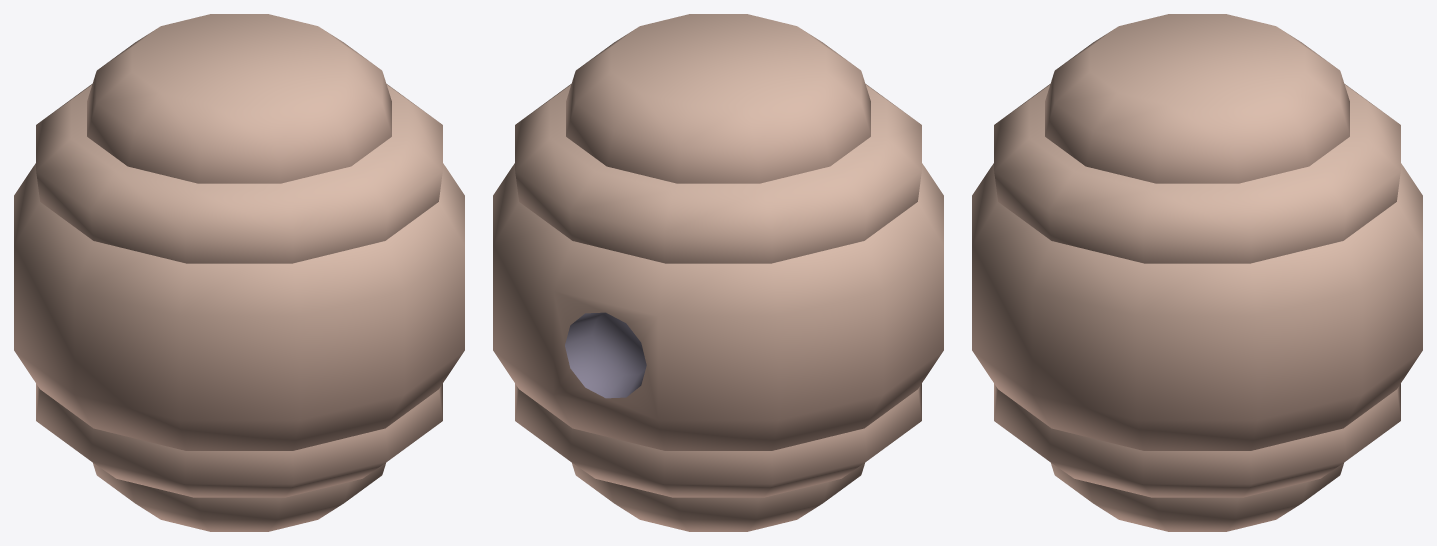
File: beehive.glb
The picture shows the model from 3 angles, left to right: view 1: azimuth 30°, elevation 25°; view 2: azimuth 150°, elevation 25°; view 3: azimuth 270°, elevation 25°; orthographic projection.
Parts seen in each view (by area): view 1: beehive; view 2: beehive; view 3: beehive.
Boxes of the visible parts, x1,y1,x2,y2 form: beehive: (14,14,464,531); beehive: (493,14,943,531); beehive: (972,14,1422,531).
Bounding box in the file's own units: 0.3812 × 0.3986 × 0.3812.
